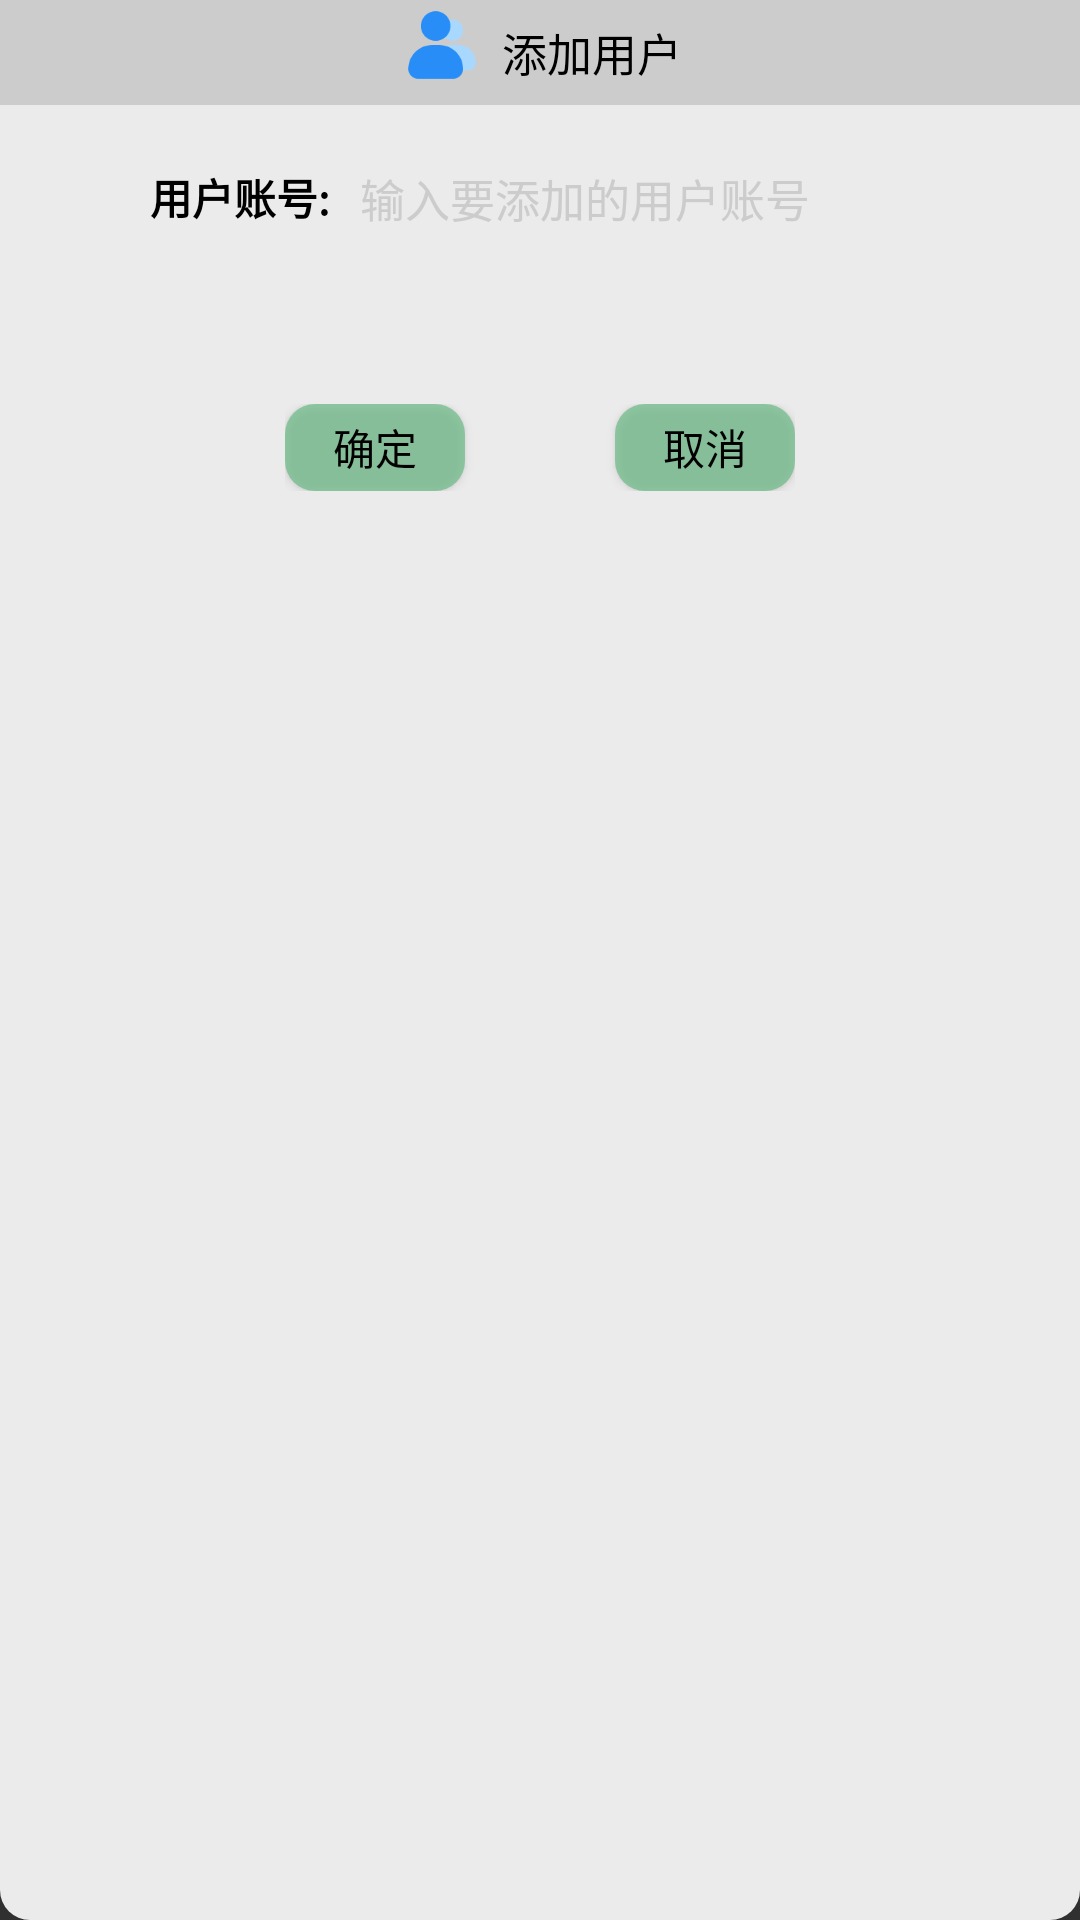

Named icons in this screenshot (1080 x 1920) and their bounding boxes, (x1, y1, x2, y2):
note user: (408, 11, 476, 79)
